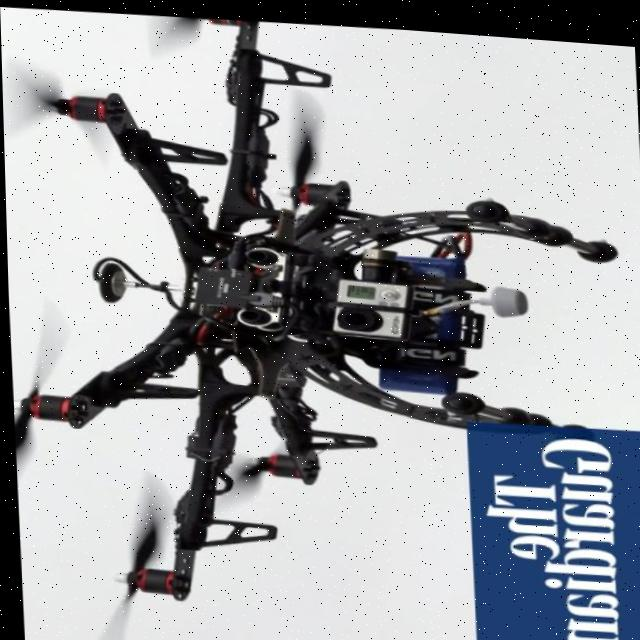drones: (0, 0, 626, 640)
